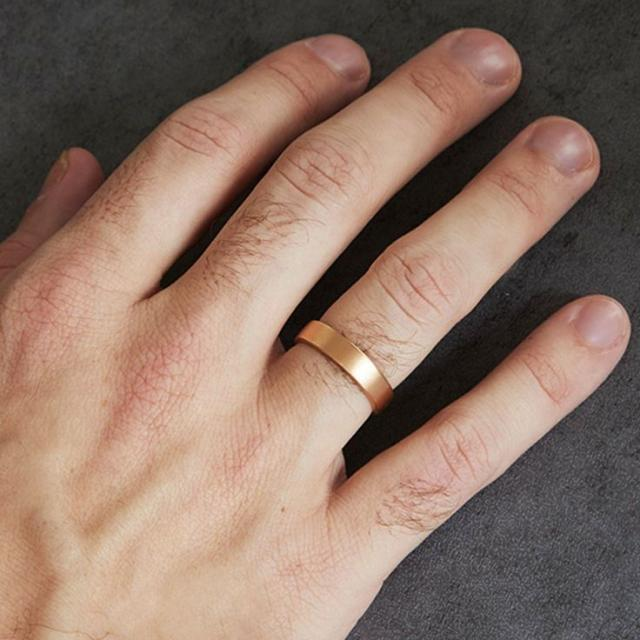Fingernail: (449, 29, 518, 88), (531, 120, 594, 177), (305, 33, 370, 82), (576, 300, 626, 353)
